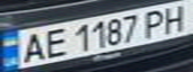1: (69, 20, 93, 52), (87, 18, 109, 48)
7: (118, 11, 145, 43)
8: (103, 15, 127, 46)
A: (15, 29, 51, 64)
E: (36, 26, 72, 60)
H: (157, 2, 193, 34)
P: (139, 7, 172, 38)
